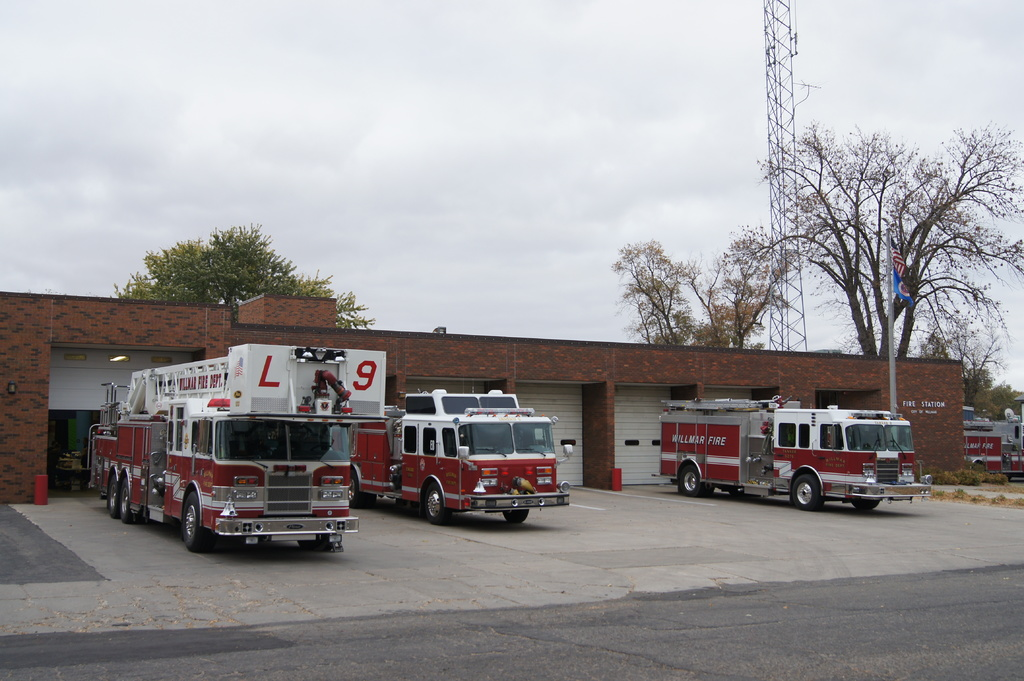truck: (76, 328, 405, 576), (341, 368, 582, 534), (644, 384, 937, 519)
